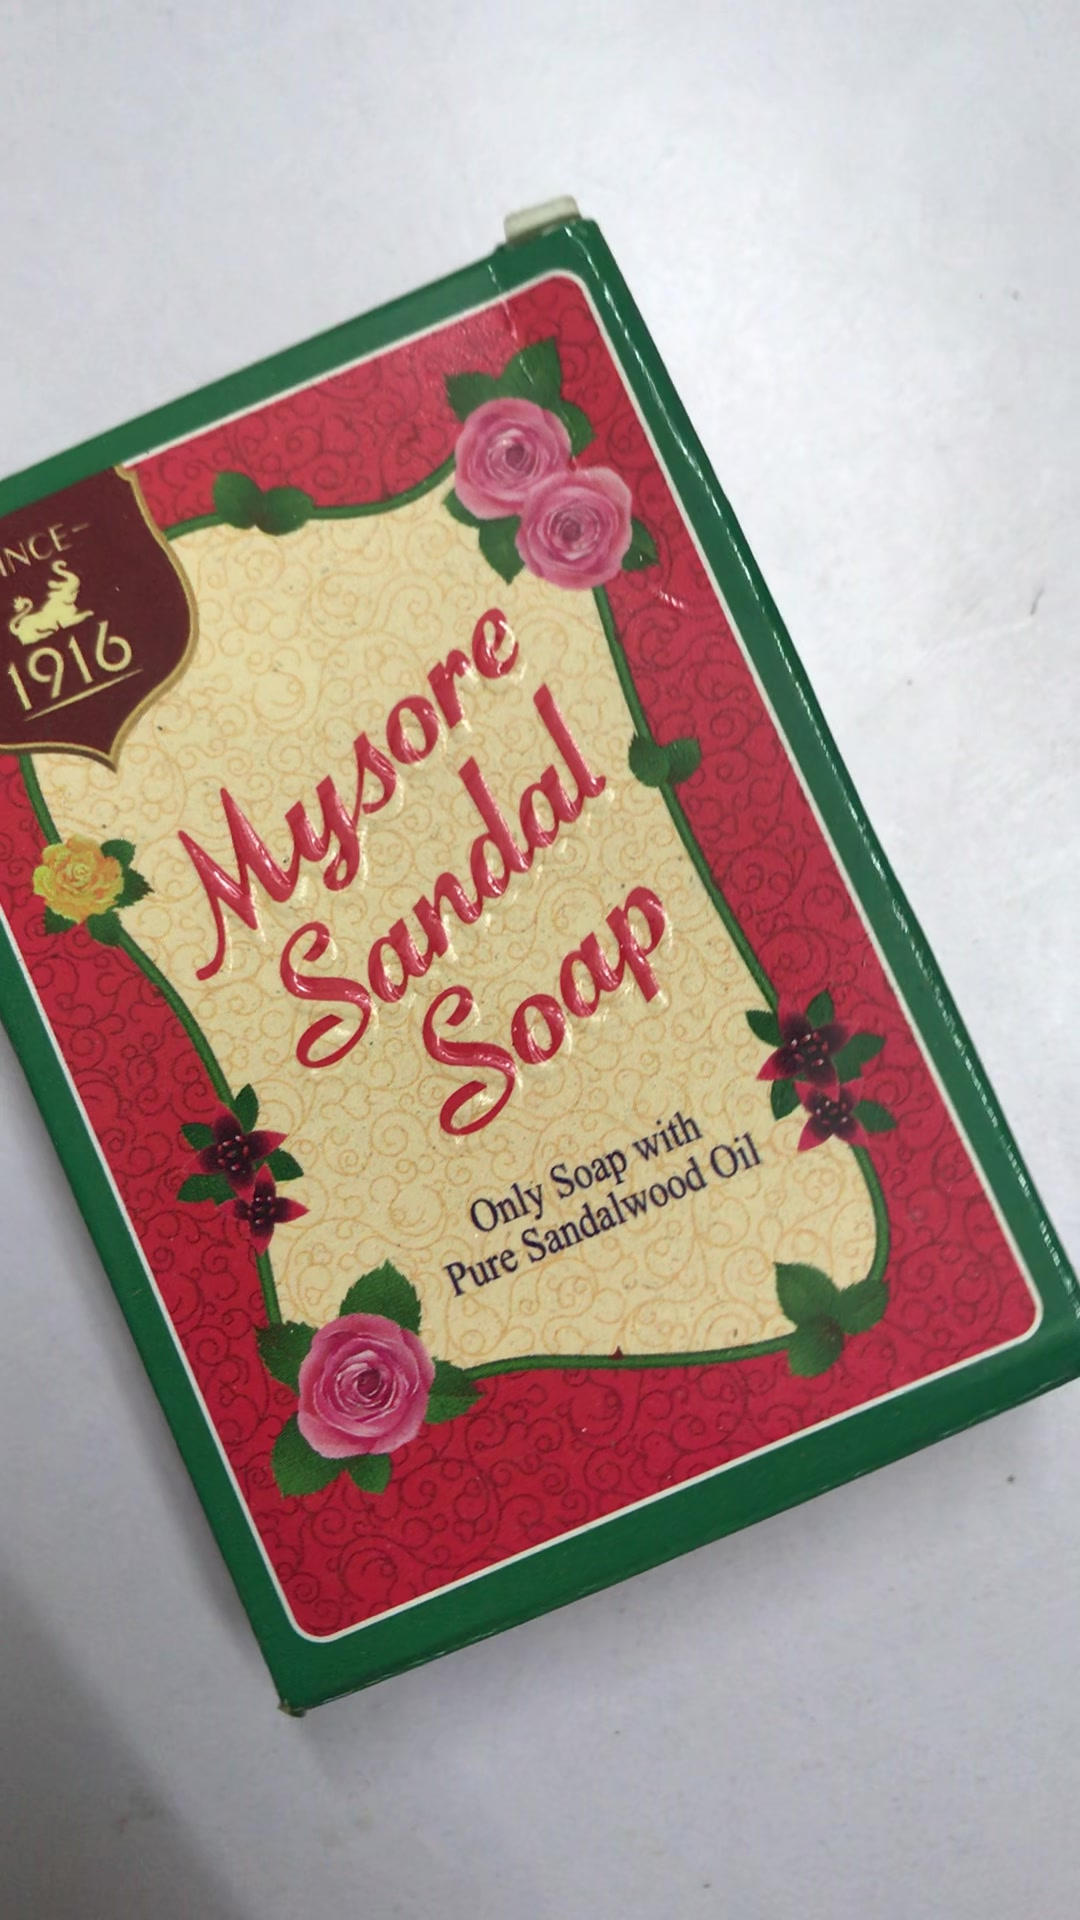mysore sandal soap: (5, 211, 1080, 1720)
